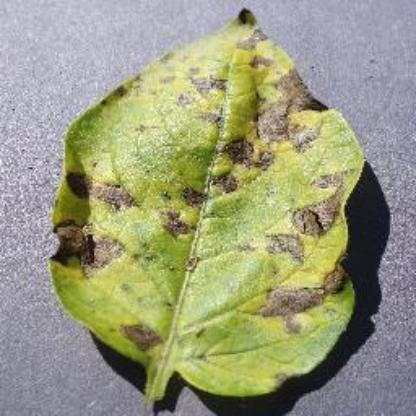Early-Blight: (46, 8, 386, 404)
